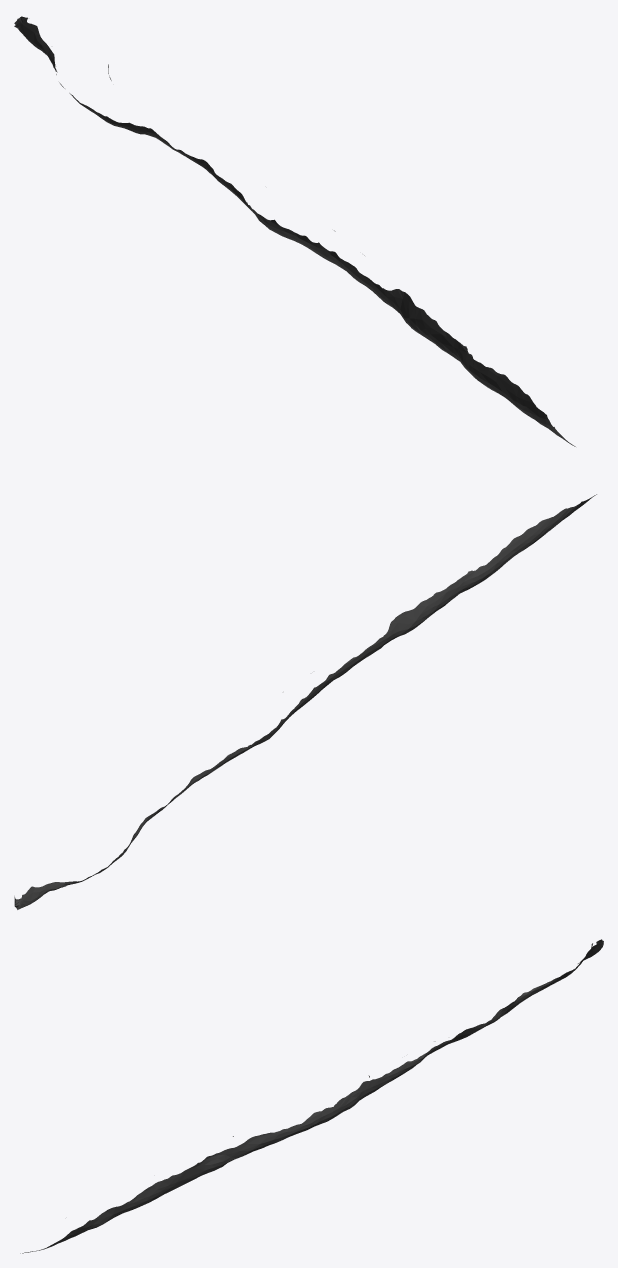
File: vein_accessory_cephalic.glb
3 renders of one model, top to bottom at view 1: azimuth 30°, elevation 25°; view 2: azimuth 150°, elevation 25°; view 3: azimuth 330°, elevation 25°, orthographic. The views are drawn at different scales.
Visible parts, largest first — view 1: vein_accessory_cephalic; view 2: vein_accessory_cephalic; view 3: vein_accessory_cephalic.
Part boxes in pixels (x1=…): vein_accessory_cephalic: x1=14, y1=16, x2=575, y2=446; vein_accessory_cephalic: x1=14, y1=494, x2=596, y2=909; vein_accessory_cephalic: x1=20, y1=939, x2=603, y2=1253.
Size of the model in its own units: 0.0446 by 0.0334 by 0.4488.
Materials: 1 (1 with a texture image).
